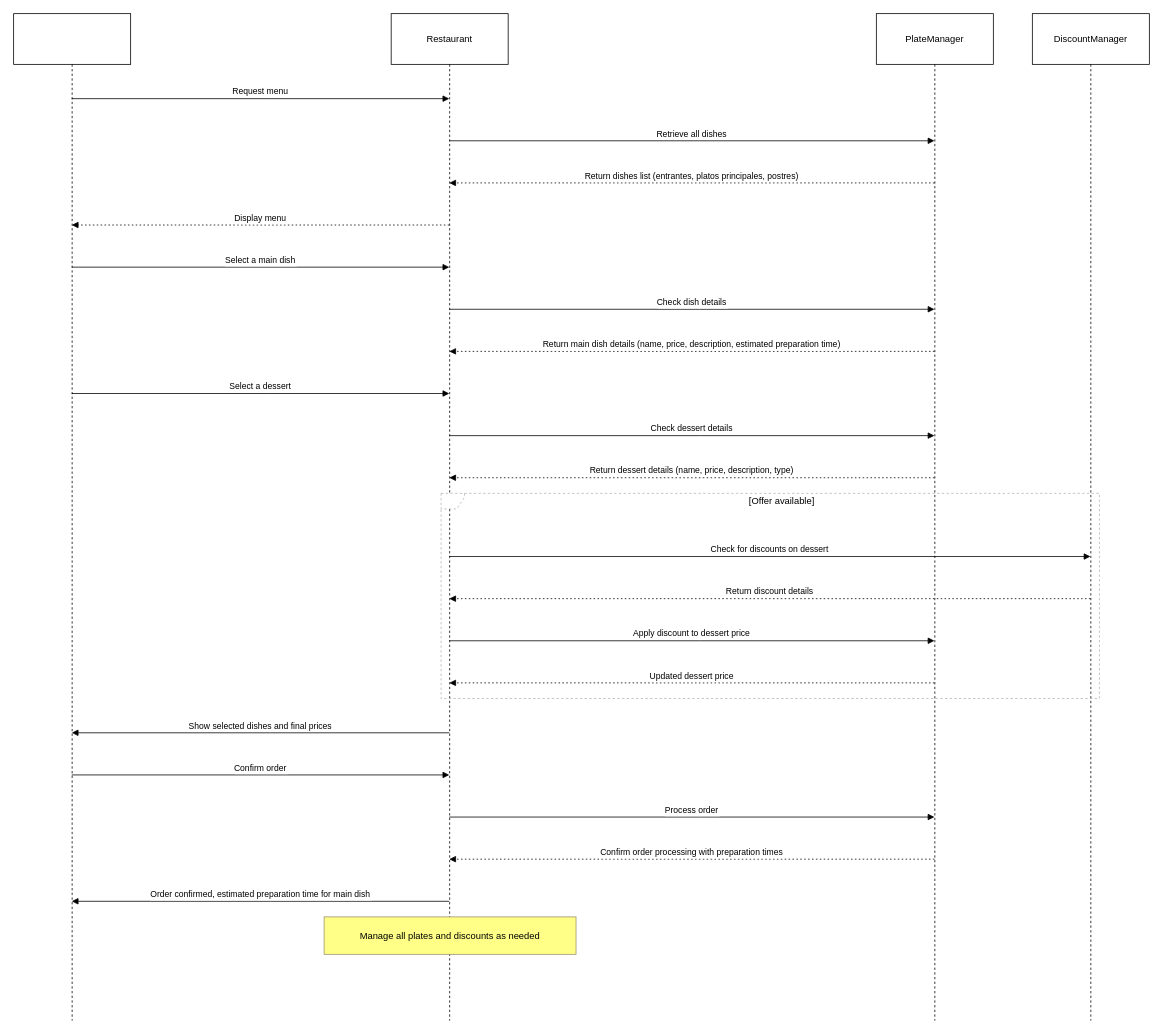
Some shapes in this 1163 by 1034 pixel diagram are drawn without their labels. Here are the shapes that lost their labels. From the top down, the box of each, then its label:
(13, 13, 131, 1021): Client
(440, 493, 1099, 698): alt
